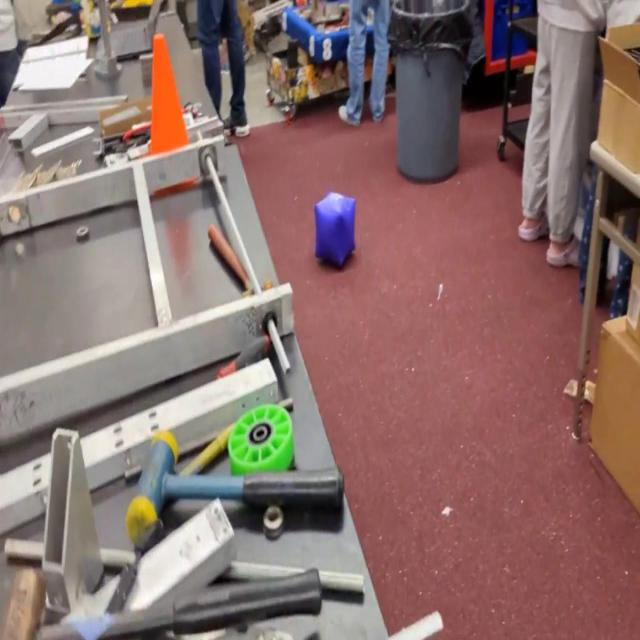frc_cube: (312, 188, 358, 266)
